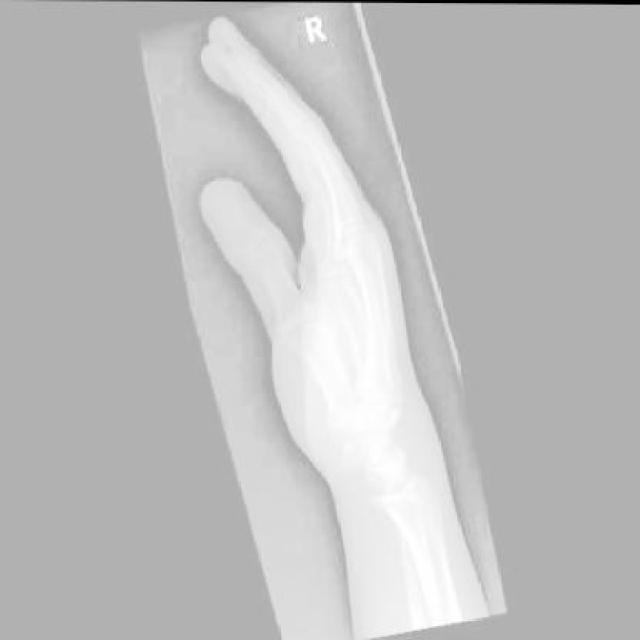Fracture: (389, 436, 409, 459)
